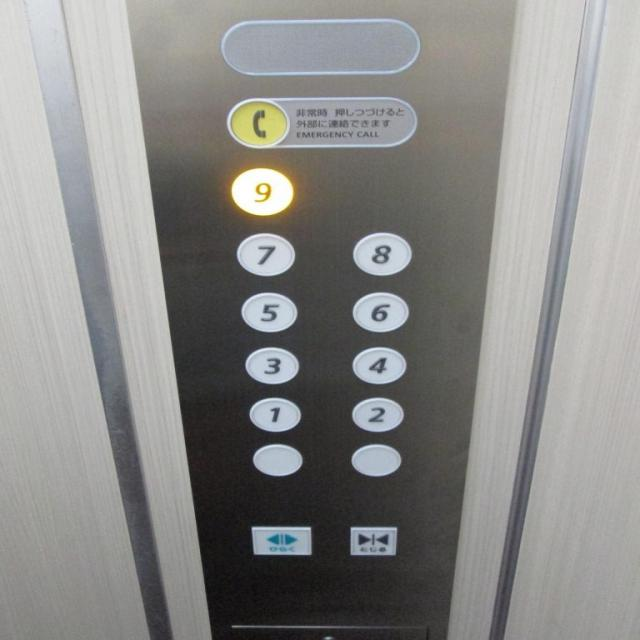1: (248, 395, 302, 433)
2: (349, 396, 405, 432)
3: (244, 346, 298, 385)
4: (347, 346, 406, 385)
5: (238, 289, 298, 333)
6: (350, 288, 411, 332)
7: (234, 231, 296, 277)
8: (349, 230, 413, 276)
9: (229, 165, 294, 216)
call: (228, 98, 290, 149)
close: (347, 524, 399, 557)
empty: (348, 442, 402, 477), (251, 443, 302, 476)
open: (248, 523, 312, 556)
